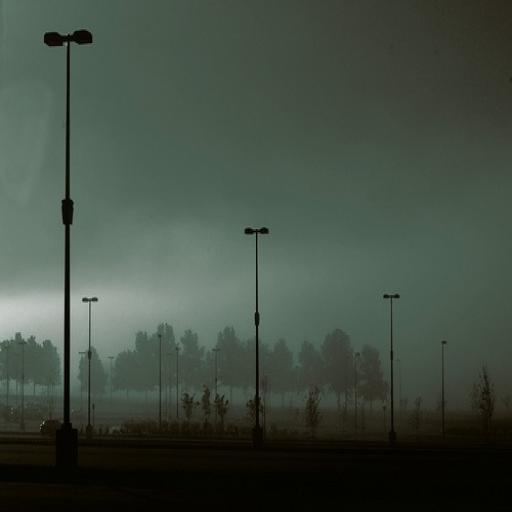off street light: (40, 24, 100, 435), (242, 219, 274, 417), (381, 284, 403, 428)
